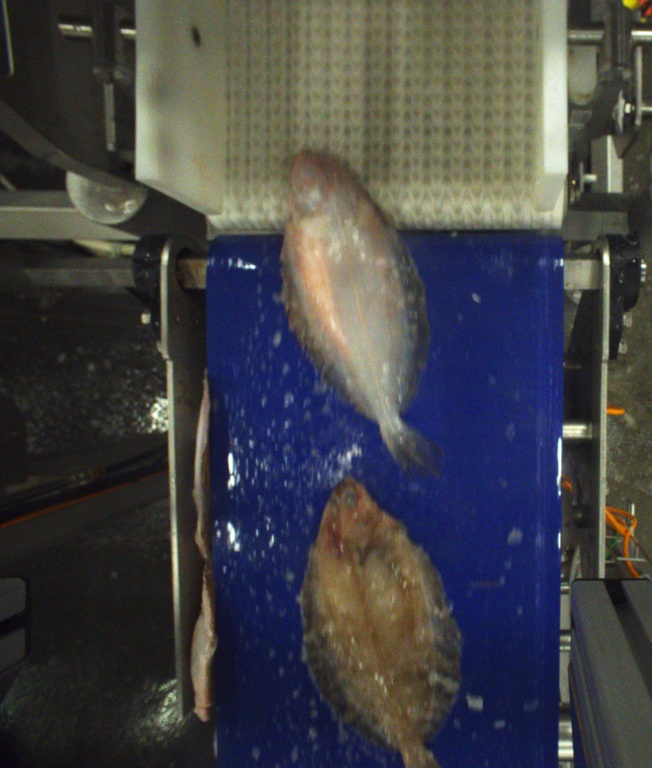WIT: (282, 146, 444, 480)
